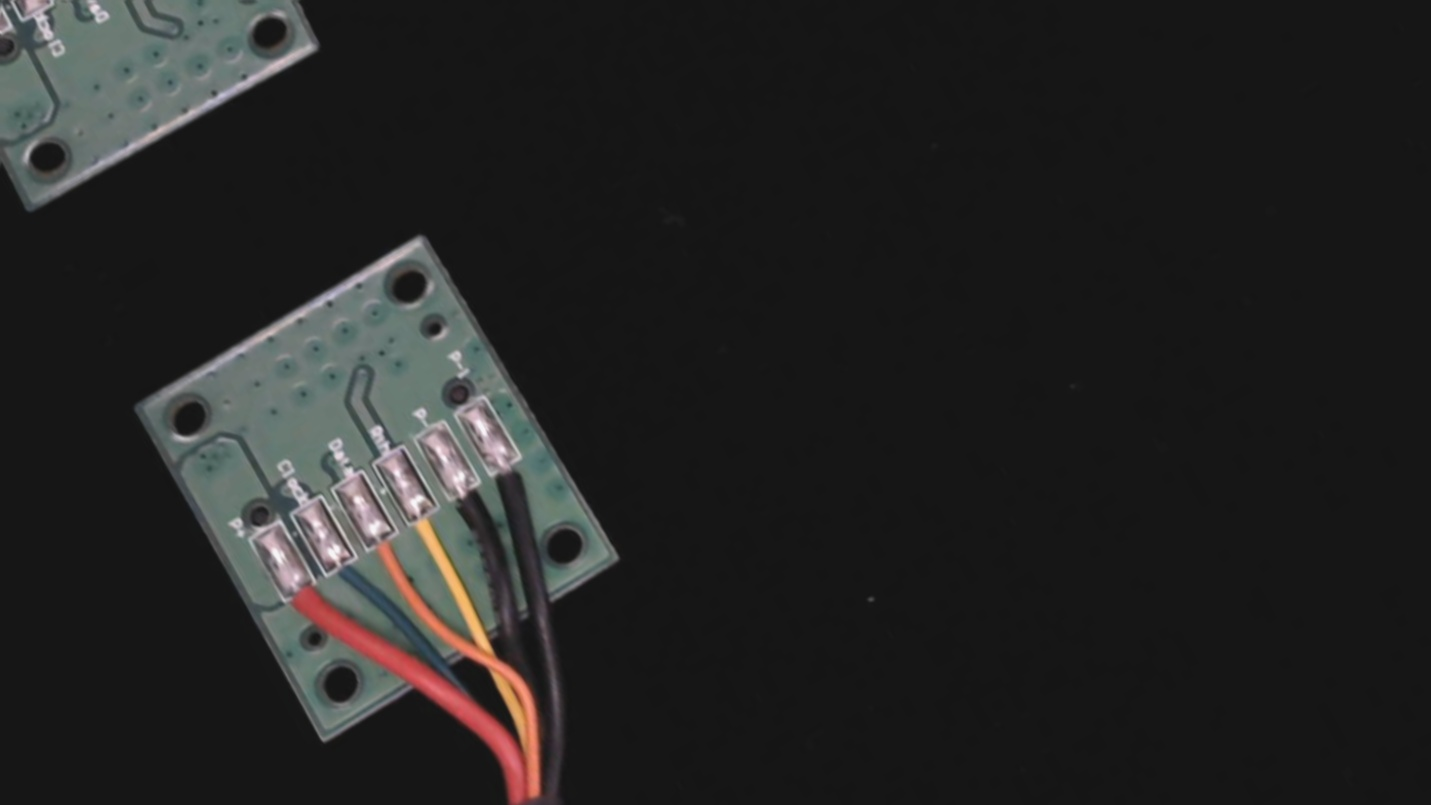Black: (435, 465, 510, 551)
Black1: (474, 439, 547, 517)
Green: (310, 538, 382, 619)
Orange: (351, 515, 424, 595)
Red: (265, 564, 341, 647)
Yellow: (390, 488, 470, 578)
